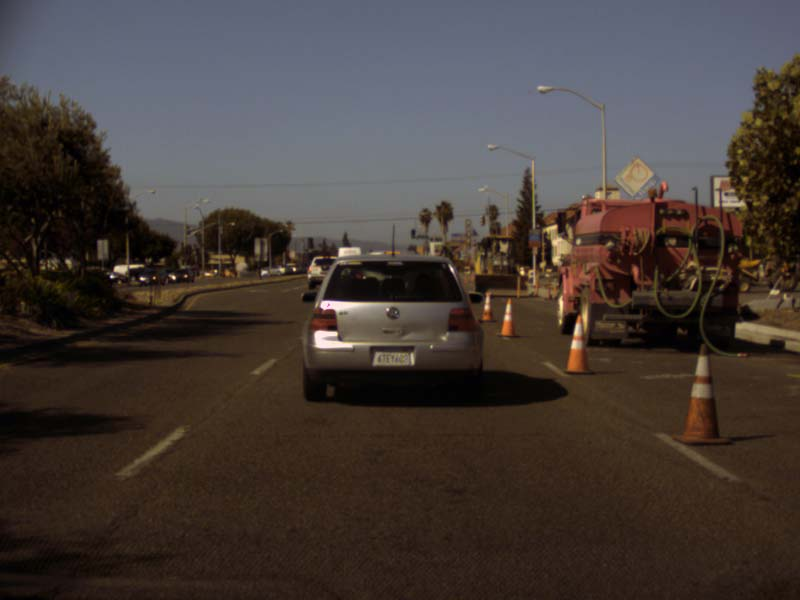Green: (410, 229, 415, 238)
